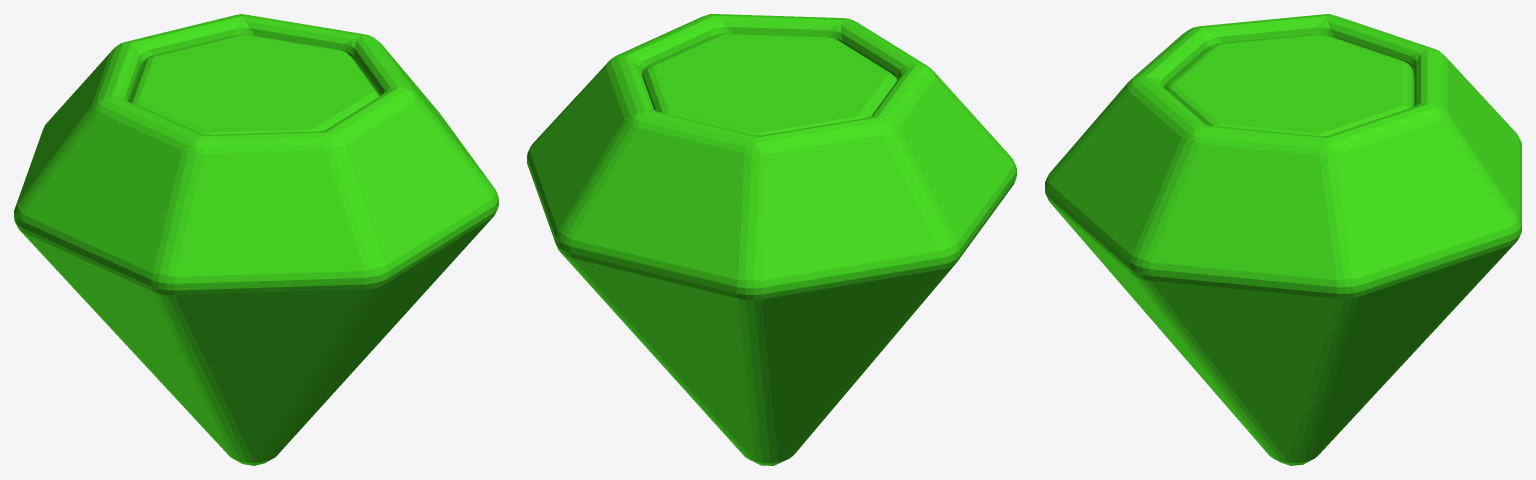
Rendered from Gem1.fbx.
3 renders of one model, left to right at view 1: azimuth 30°, elevation 25°; view 2: azimuth 150°, elevation 25°; view 3: azimuth 270°, elevation 25°, orthographic.
Parts seen in each view (by area): view 1: Cone; view 2: Cone; view 3: Cone.
Part boxes in pixels (x1,y1,x2,y2): Cone: (14,14,498,465); Cone: (527,14,1016,465); Cone: (1045,14,1521,465).
Bounding box in the file's own units: 189 × 164 × 185.
